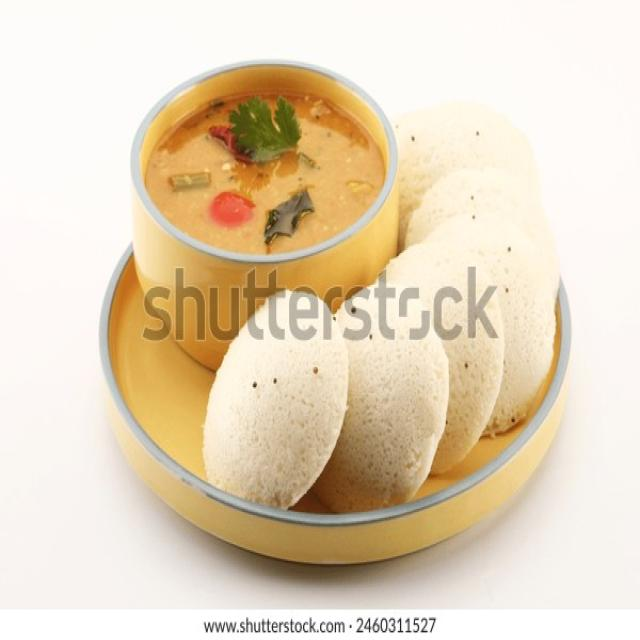IDLI: (203, 293, 347, 507), (431, 210, 557, 425), (319, 302, 448, 510), (396, 104, 540, 250), (405, 169, 551, 253)
